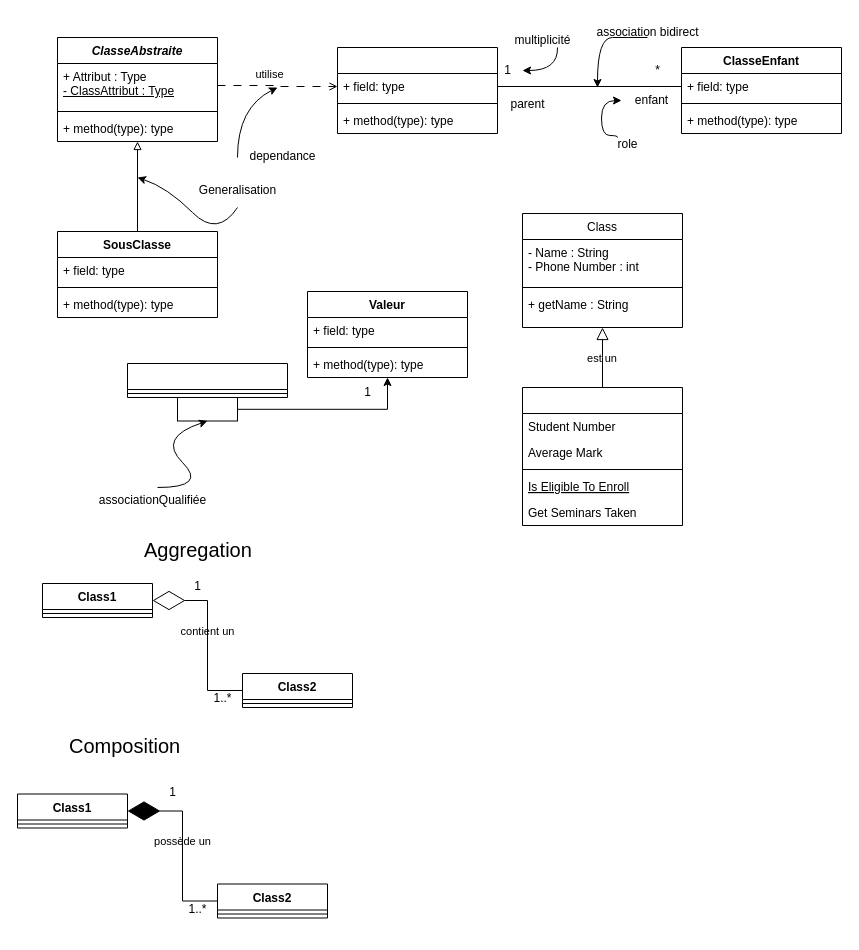
The diagram is 859 pixels wide and 950 high, and some of its shapes have lost their labels. The box of each missing label's shape, as (x1, y1, x2, y2) in pixels:
ChildClass: (522, 386, 682, 526)
ClasseParent: (336, 46, 498, 134)
Dictionnaire: (126, 362, 288, 398)
nomClé: (176, 396, 238, 421)
